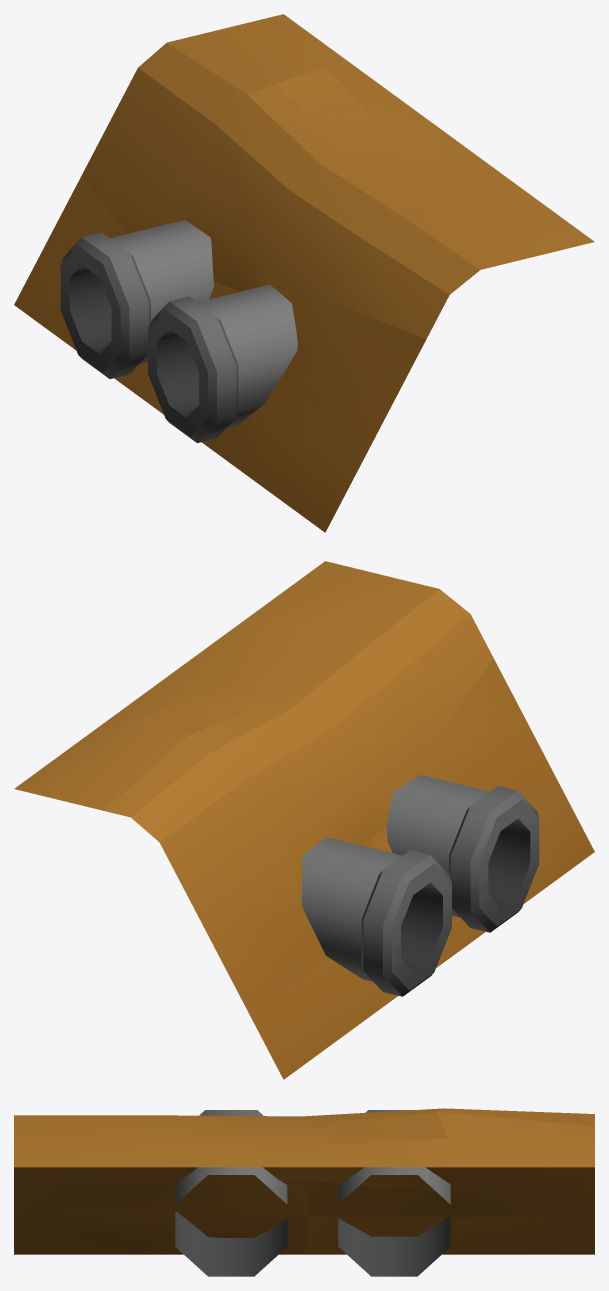
Rendered from cGround_B_Side_3_.obj.
The picture shows the model from 3 angles, top to bottom: view 1: azimuth 30°, elevation 25°; view 2: azimuth 150°, elevation 25°; view 3: azimuth 270°, elevation 25°; orthographic projection. The views are drawn at different scales.
Parts seen in each view (by area): view 1: cGround_B_Side_3_; view 2: cGround_B_Side_3_; view 3: cGround_B_Side_3_.
Boxes of the visible parts, x1=… form: cGround_B_Side_3_: x1=14, y1=14, x2=594, y2=532; cGround_B_Side_3_: x1=14, y1=561, x2=594, y2=1079; cGround_B_Side_3_: x1=14, y1=1108, x2=594, y2=1276.
Bounding box in the file's own units: 4.46 × 3.4 × 8.
